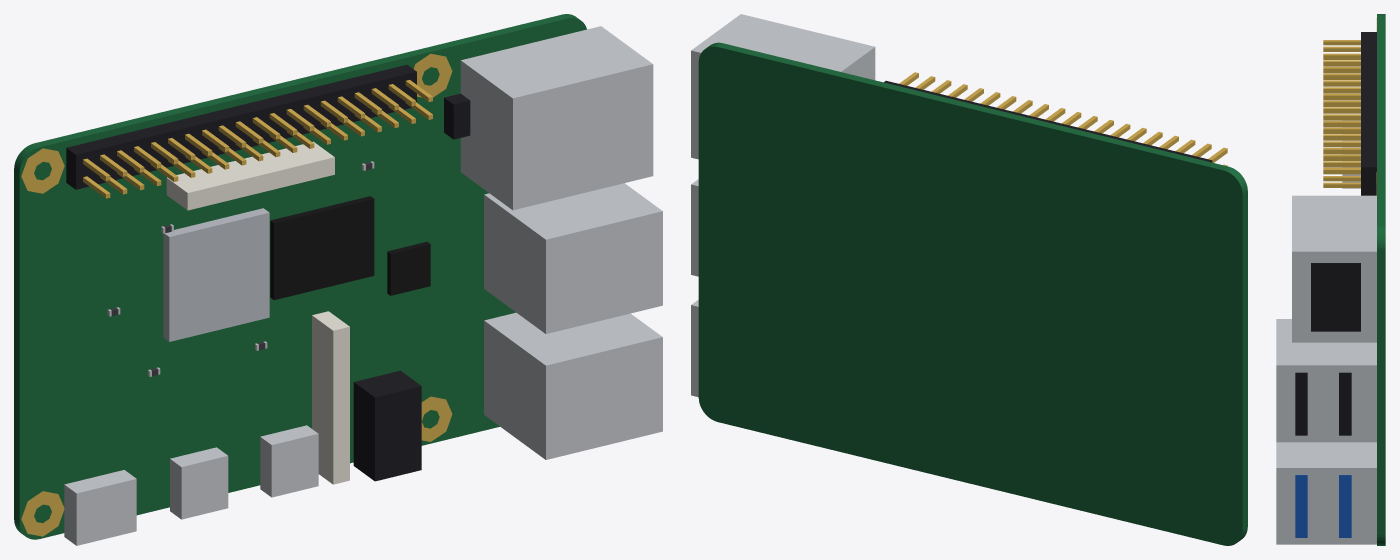
3 views of the same model, side by side, from view 1: azimuth 30°, elevation 25°; view 2: azimuth 150°, elevation 25°; view 3: azimuth 270°, elevation 25° (orthographic). The views are drawn at different scales.
Parts seen in each view (by area): view 1: g0-pcb, g5-metal, g2-plastic, g1-gold, g3-metal, g7-plastic, g4-plastic; view 2: g0-pcb, g5-metal, g1-gold, g2-plastic; view 3: g5-metal, g2-plastic, g1-gold, g0-pcb, g6-plastic, g7-plastic.
Boxes of the visible parts, x1=… form: g0-pcb: x1=14, y1=14, x2=586, y2=539; g5-metal: x1=64, y1=26, x2=662, y2=545; g2-plastic: x1=66, y1=64, x2=470, y2=481; g1-gold: x1=21, y1=53, x2=452, y2=536; g3-metal: x1=163, y1=208, x2=269, y2=341; g7-plastic: x1=166, y1=141, x2=349, y2=484; g4-plastic: x1=270, y1=196, x2=430, y2=300; g0-pcb: x1=698, y1=42, x2=1247, y2=545; g5-metal: x1=691, y1=14, x2=875, y2=397; g1-gold: x1=899, y1=72, x2=1227, y2=166; g2-plastic: x1=884, y1=80, x2=1212, y2=162; g5-metal: x1=1276, y1=195, x2=1376, y2=544; g2-plastic: x1=1295, y1=32, x2=1376, y2=435; g1-gold: x1=1323, y1=18, x2=1376, y2=195; g0-pcb: x1=1377, y1=14, x2=1385, y2=545; g6-plastic: x1=1295, y1=475, x2=1351, y2=537; g7-plastic: x1=1342, y1=120, x2=1360, y2=188.
Size of the model in its own units: 87.2 by 56.55 by 17.4.
